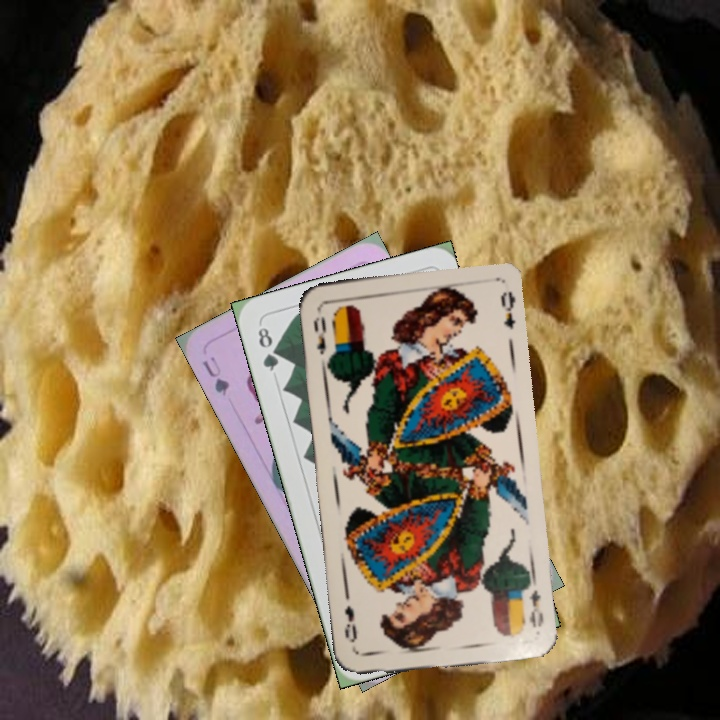EO: (525, 585, 546, 630), (309, 312, 329, 357)
G8: (253, 323, 282, 374)
GU: (198, 352, 233, 399)
